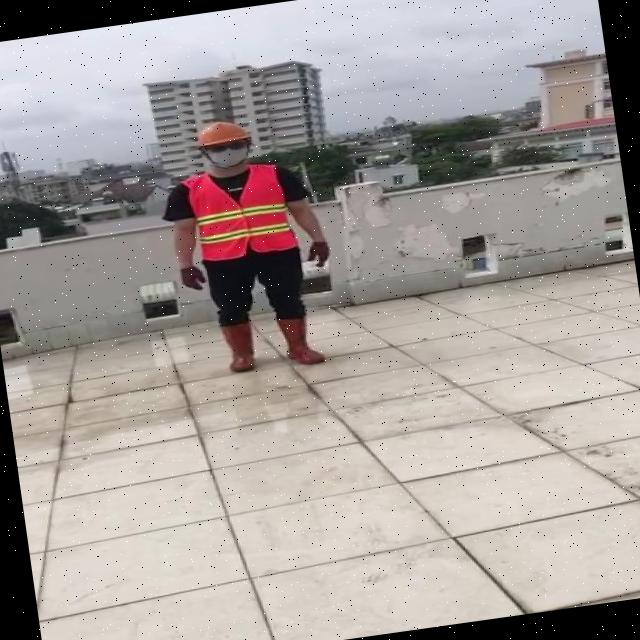boots: (274, 310, 330, 368), (216, 317, 262, 375)
helmet: (191, 117, 252, 149)
vest: (178, 160, 303, 266)
